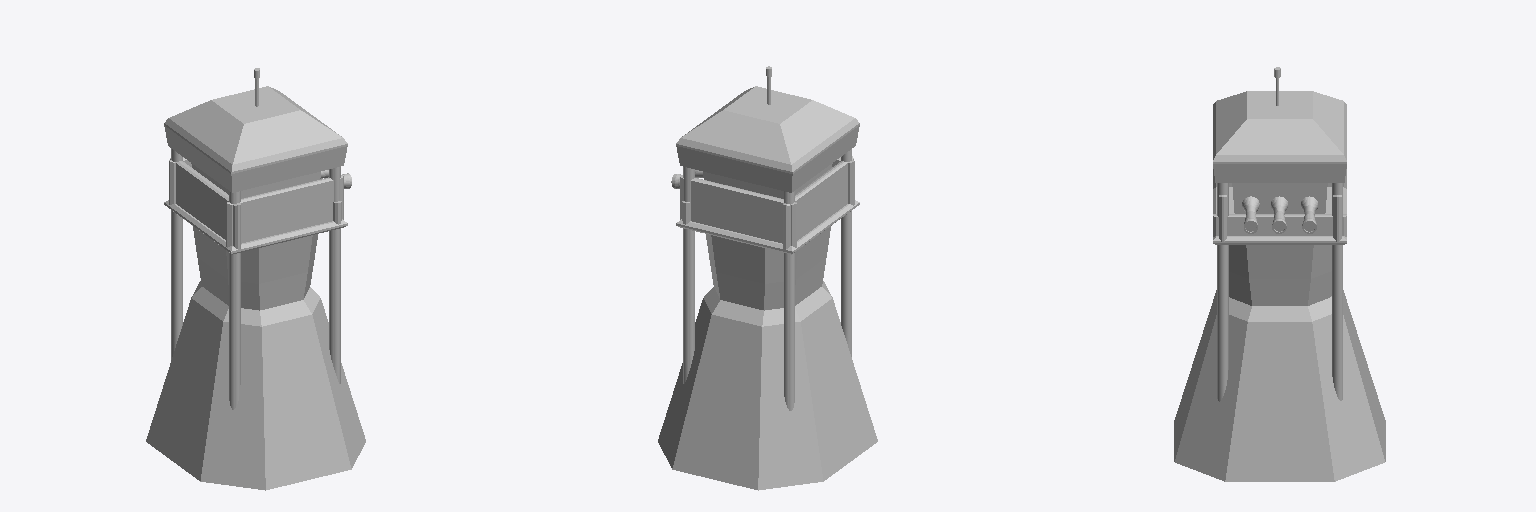
The model's file is tower_2.obj.
3 views of the same model, side by side, from view 1: azimuth 30°, elevation 25°; view 2: azimuth 150°, elevation 25°; view 3: azimuth 270°, elevation 25° (orthographic).
Visible parts, largest first — view 1: korpus.001, pol.007, pol.008, pol.010, BUP.003, BUP2.001, BUP3.001, pol.006; view 2: korpus.001, pol.007, pol.009, pol.010, BUP4.001, BUP3.001, pol.006, BUP2.001; view 3: korpus.001, pol.007, BUP.003, pol.011, BUP4.001, pol.006.
Part boxes in pixels (bbox=[...]): korpus.001: bbox=[146, 226, 365, 490]; pol.007: bbox=[164, 86, 347, 198]; pol.008: bbox=[226, 174, 343, 247]; pol.010: bbox=[170, 158, 240, 250]; BUP.003: bbox=[329, 167, 340, 383]; BUP2.001: bbox=[229, 191, 240, 409]; BUP3.001: bbox=[171, 148, 182, 359]; pol.006: bbox=[164, 200, 347, 254]; korpus.001: bbox=[658, 226, 877, 490]; pol.007: bbox=[676, 86, 859, 198]; pol.009: bbox=[680, 175, 796, 247]; pol.010: bbox=[783, 156, 853, 250]; BUP4.001: bbox=[683, 167, 694, 383]; BUP3.001: bbox=[784, 191, 794, 410]; pol.006: bbox=[676, 200, 859, 254]; BUP2.001: bbox=[841, 149, 851, 356]; korpus.001: bbox=[1174, 245, 1385, 481]; pol.007: bbox=[1213, 91, 1346, 213]; BUP.003: bbox=[1217, 183, 1228, 401]; pol.011: bbox=[1213, 214, 1346, 236]; BUP4.001: bbox=[1332, 183, 1342, 400]; pol.006: bbox=[1213, 187, 1346, 244].
Bounding box in the file's own units: 8.26 × 17.83 × 9.1.